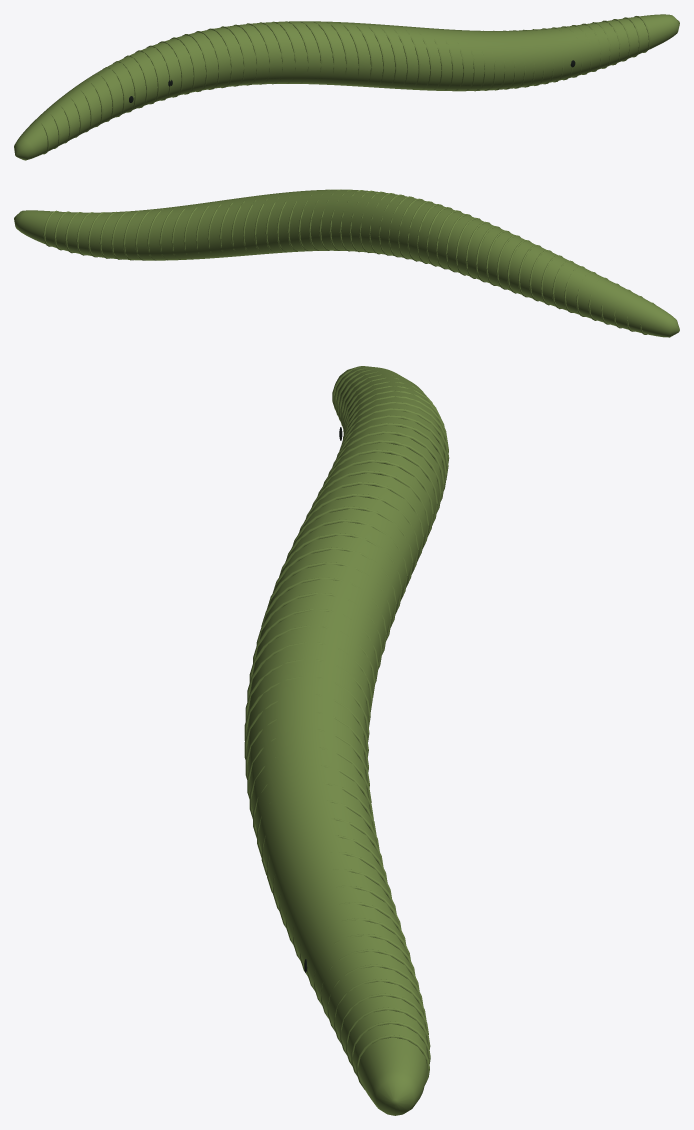
File: soft-plastic.glb
3 views of the same model, one above another, from view 1: azimuth 30°, elevation 25°; view 2: azimuth 150°, elevation 25°; view 3: azimuth 270°, elevation 25° (orthographic). The views are drawn at different scales.
Parts seen in each view (by area): view 1: soft-plastic specimen.001; view 2: soft-plastic specimen.001; view 3: soft-plastic specimen.001.
Boxes of the visible parts, x1,y1,x2,y2 form: soft-plastic specimen.001: (14, 14, 679, 160); soft-plastic specimen.001: (14, 189, 679, 337); soft-plastic specimen.001: (244, 366, 449, 1115).
Size of the model in its own units: 2.04 by 0.3772 by 0.2764.
